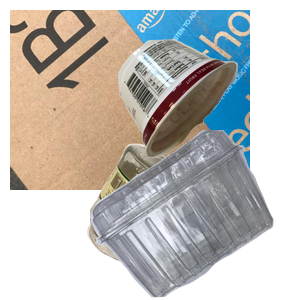cardboard: (10, 10, 250, 190)
glass: (85, 141, 275, 300)
plastic: (88, 130, 300, 300)
trash: (116, 36, 300, 187)
